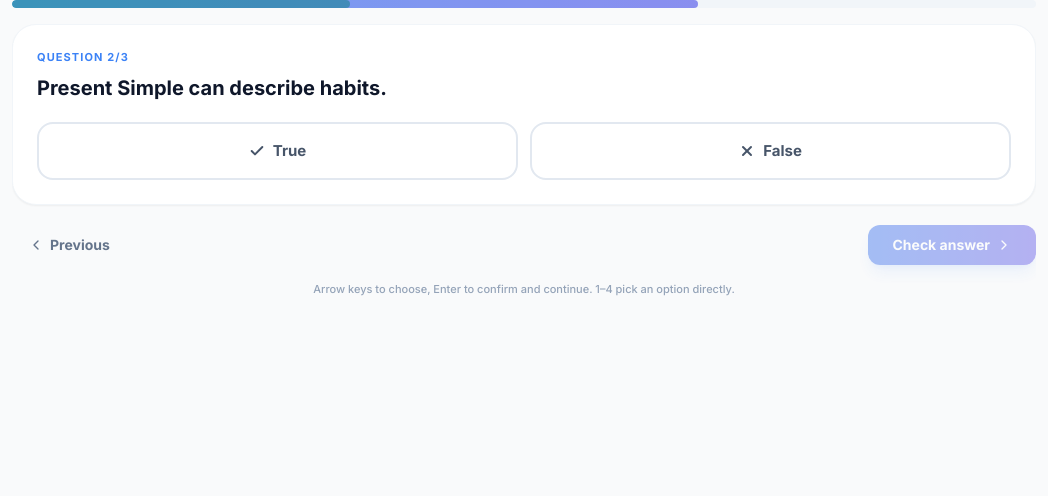
Test: QuizStage — immediate feedback › restores already-graded questions after a reload, and reveals nothing about the rest
Expected: the heading "Present Simple can describe habits." is shown, x1=37 y1=76 x2=387 y2=100
Going back shows the recorded verdict, read-only.
Click the button "Previous". click: (69, 245)
box: x1=12 y1=225 x2=126 y2=265
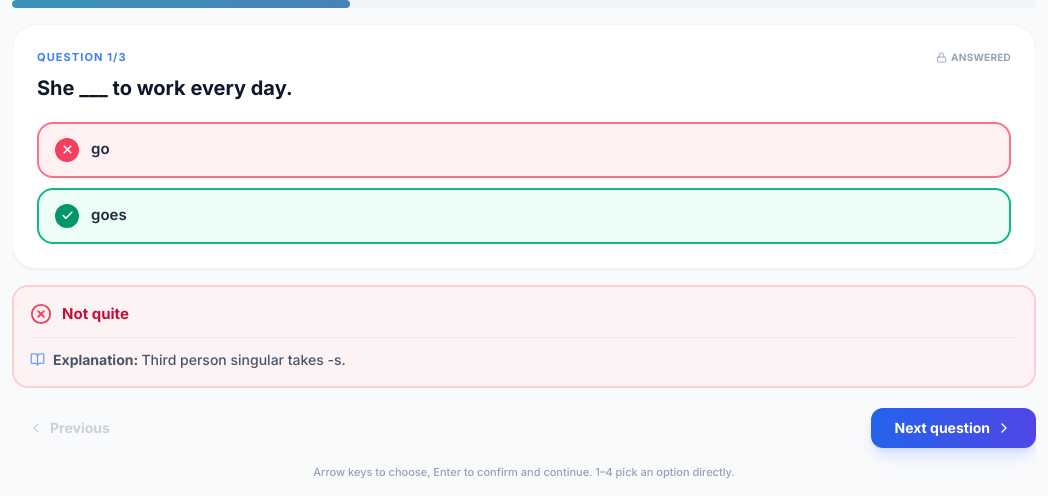
Expected: the heading "She ___ to work every day." is shown, x1=37 y1=76 x2=293 y2=100
Expected: the text "Not quite" is shown, x1=62 y1=302 x2=129 y2=325
Expected: the text "Explanation: Third person singular takes -s." is shown, x1=53 y1=350 x2=346 y2=370
